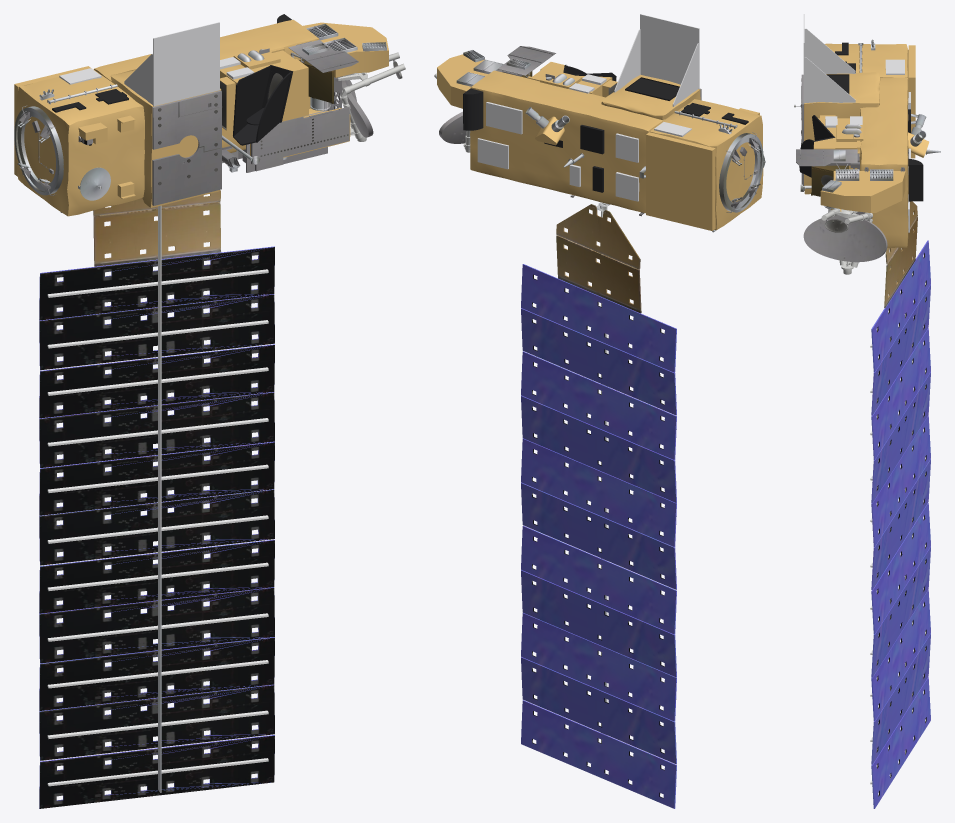
The model's file is aura.glb.
3 renders of one model, left to right at view 1: azimuth 30°, elevation 25°; view 2: azimuth 150°, elevation 25°; view 3: azimuth 270°, elevation 25°, orthographic. The views are drawn at different scales.
Visible parts, largest first — view 1: tex_01, foil_gold, shiny_panel, foil_silver, black_krinkle, tex_01d; view 2: shiny_panel, foil_gold, tex_01, foil_silver, black_krinkle; view 3: shiny_panel, foil_gold, tex_01, foil_silver, black_krinkle, tex_01d.
Boxes of the visible parts, x1,y1,x2,y2 form: tex_01: (14,23,402,808); foil_gold: (14,19,388,216); shiny_panel: (39,246,274,808); foil_silver: (59,22,254,106); black_krinkle: (52,14,293,145); tex_01d: (290,52,405,141); shiny_panel: (521,264,676,808); foil_gold: (437,54,763,230); tex_01: (439,46,765,798); foil_silver: (477,14,699,201); black_krinkle: (463,65,748,192); shiny_panel: (871,240,930,808); foil_gold: (804,43,929,247); tex_01: (794,39,940,796); foil_silver: (803,14,910,232); black_krinkle: (799,42,923,201); tex_01d: (821,165,872,274).
Bounding box in the file's own units: 8.11 × 17.37 × 3.19.
7 materials, 2 textured.
